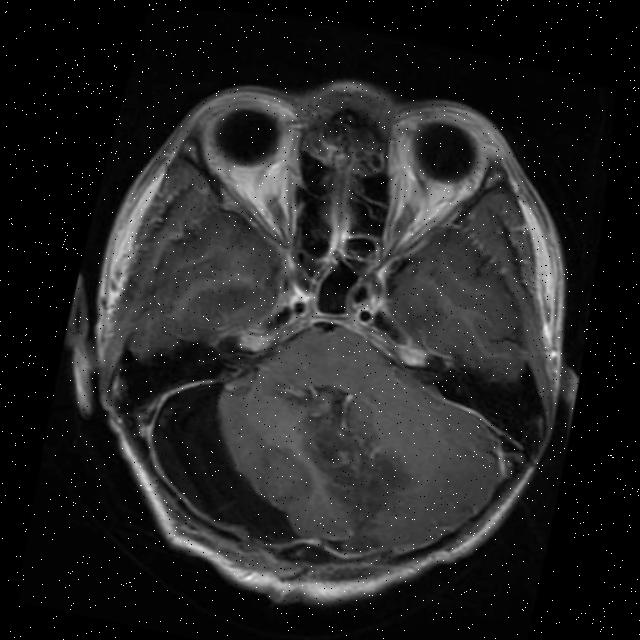Glioma: (251, 373, 431, 541)
